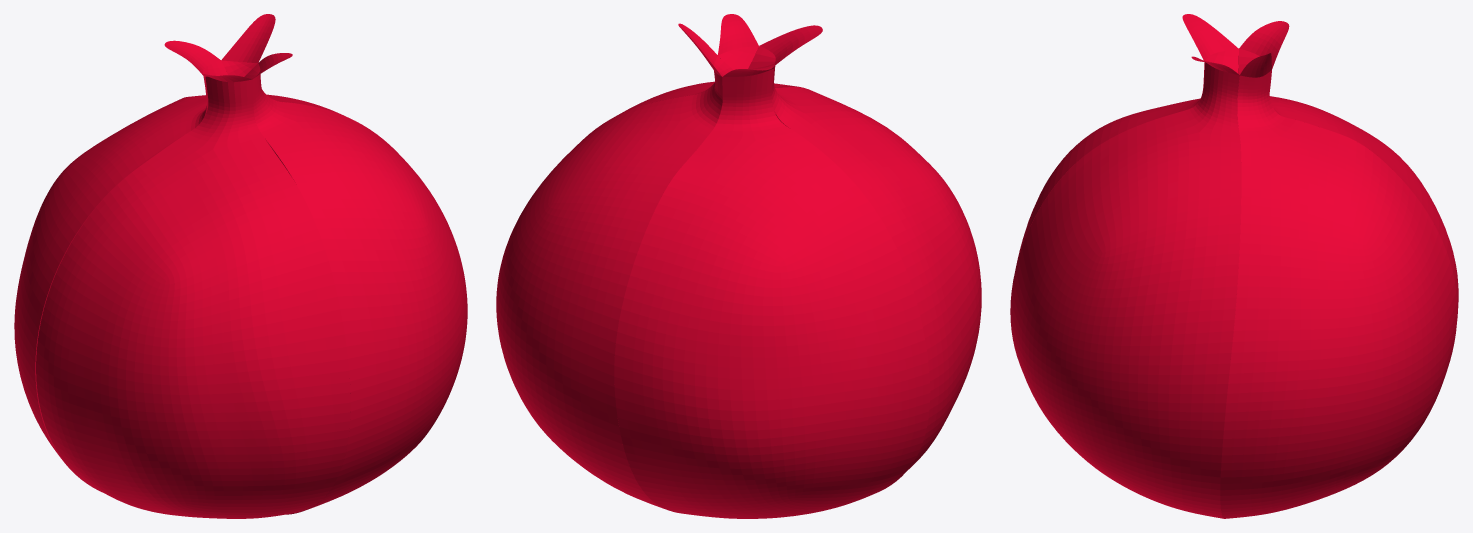
Rendered from Fruit.fbx.
3 renders of one model, left to right at view 1: azimuth 30°, elevation 25°; view 2: azimuth 150°, elevation 25°; view 3: azimuth 270°, elevation 25°, orthographic. The views are drawn at different scales.
Parts seen in each view (by area): view 1: Cube.032; view 2: Cube.032; view 3: Cube.032.
Part boxes in pixels (x1,y1,x2,y2): Cube.032: (14, 14, 467, 518); Cube.032: (496, 14, 981, 518); Cube.032: (1010, 14, 1458, 518).
Size of the model in its own units: 143 by 157 by 139.
